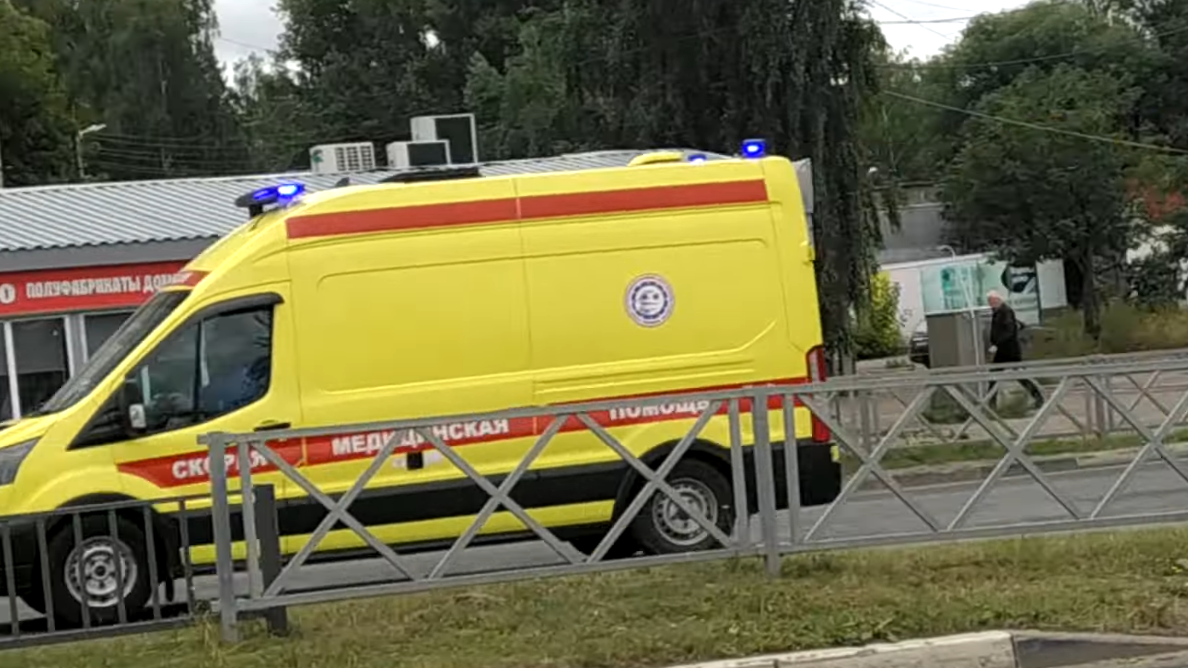intensive care unit: (0, 137, 842, 628)
